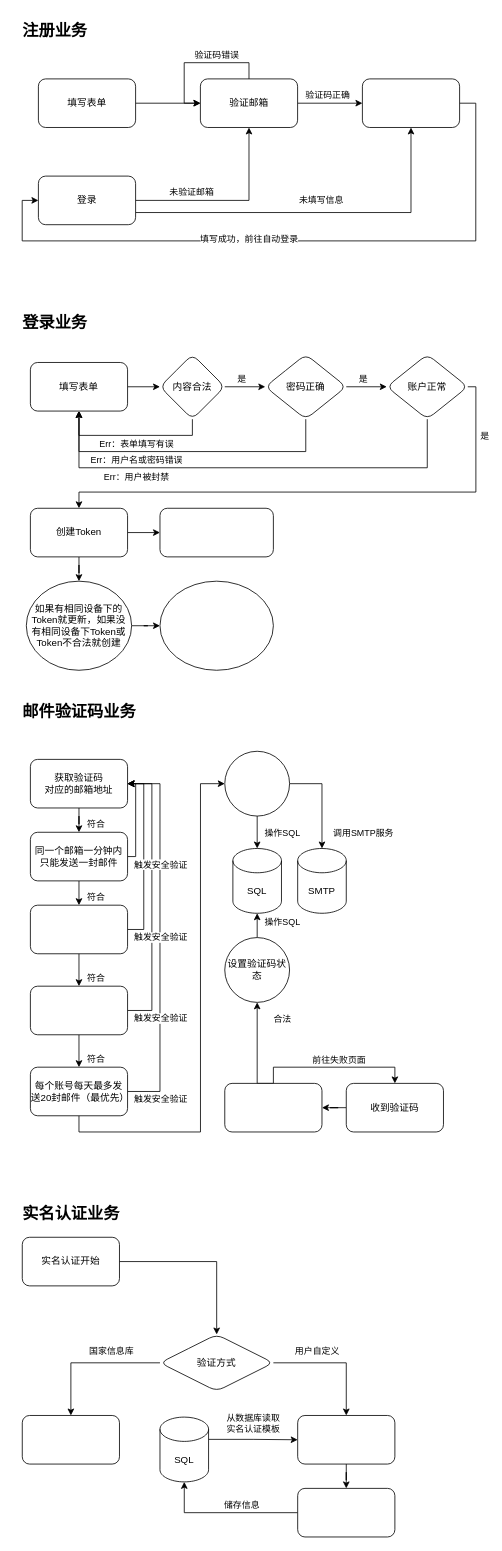
The diagram is 502 pixels wide and 1551 high, and some of its shapes have lost their labels. The shapes that lost their labels are listed below. From the top down, each one's centre as x and y in pixels, then its label:
At (x=411, y=102): "填写信息".
At (x=216, y=532): "返回用户信息和Token".
At (x=216, y=625): "合法Token：没有过期的Token，状态正常的Token".
At (x=257, y=783): "生成验证码".
At (x=79, y=929): "同一个设备一分钟内只能发送两封邮件".
At (x=79, y=1010): "同一个IP五分钟内只能发送10封邮件".
At (x=273, y=1107): "验证合法性：是否过期，是否正确，是否已经使用……".
At (x=70, y=1439): "使用API扫码 进行实名认证".
At (x=346, y=1439): "填写 实名认证信息".
At (x=346, y=1512): "验证并储存 实名认证信息".
